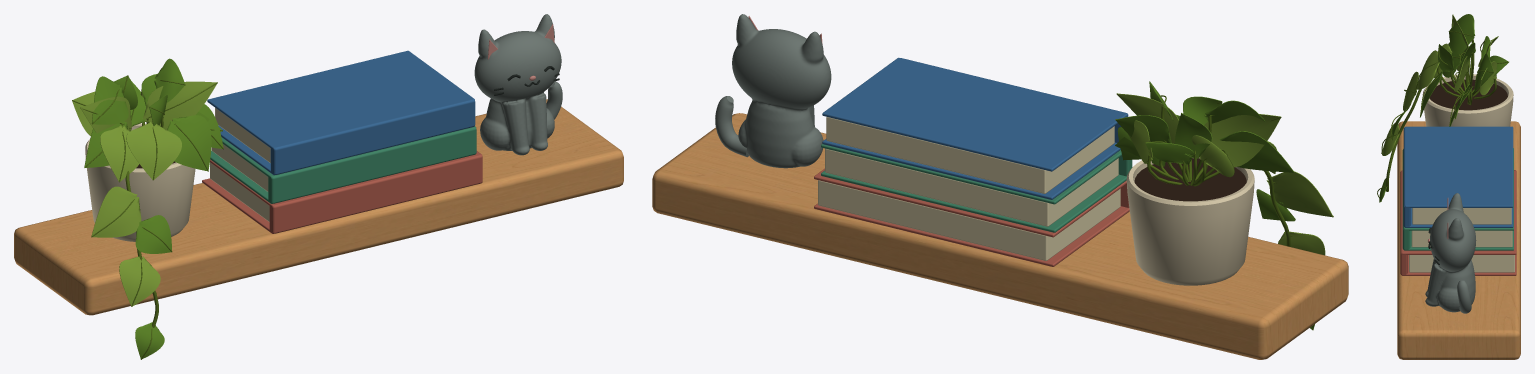
File: wall-shelf.glb
3 views of the same model, side by side, from view 1: azimuth 30°, elevation 25°; view 2: azimuth 150°, elevation 25°; view 3: azimuth 270°, elevation 25° (orthographic). The views are drawn at different scales.
Visible parts, largest first — view 1: Bottom front binding__asset.001, Rounded floating shelf__asset.001; view 2: Bottom front binding__asset.001, Rounded floating shelf__asset.001; view 3: Bottom front binding__asset.001, Rounded floating shelf__asset.001.
Boxes of the visible parts, bbox=[...] form: Bottom front binding__asset.001: bbox=[72, 14, 562, 359]; Rounded floating shelf__asset.001: bbox=[14, 99, 623, 315]; Bottom front binding__asset.001: bbox=[715, 14, 1333, 330]; Rounded floating shelf__asset.001: bbox=[652, 113, 1348, 359]; Bottom front binding__asset.001: bbox=[1377, 14, 1516, 313]; Rounded floating shelf__asset.001: bbox=[1397, 121, 1520, 359].
Bounding box in the file's own units: 1 × 0.4223 × 0.285.
2 materials, 2 textured.
